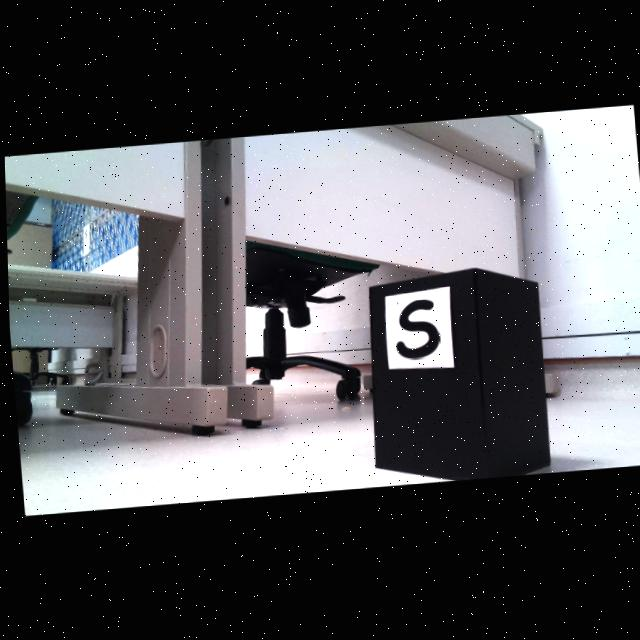S: (395, 303, 437, 362)
